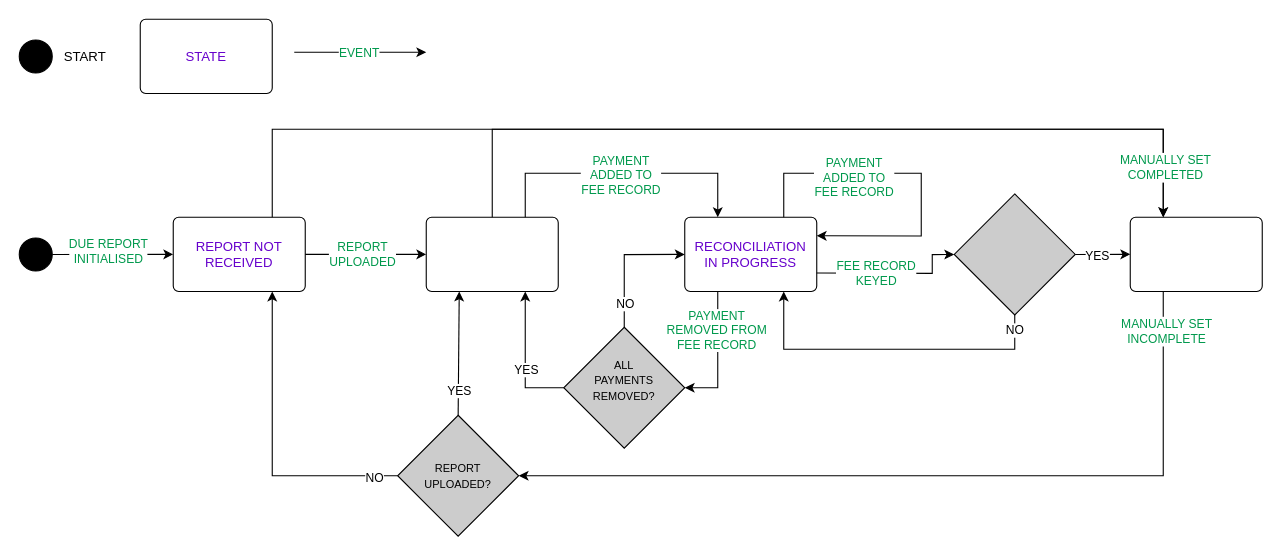
The diagram is 1282 pixels wide and 556 high, and some of its shapes have lost their labels. The centre of each missing label's shape, as x and y in pixels:
"ALL FEE RECORDS KEYED?" goes at pixel 1014 254.
"PENDING RECONCILIATION" goes at pixel 491 254.
"RECONCILIATION COMPLETED" goes at pixel 1195 254.
